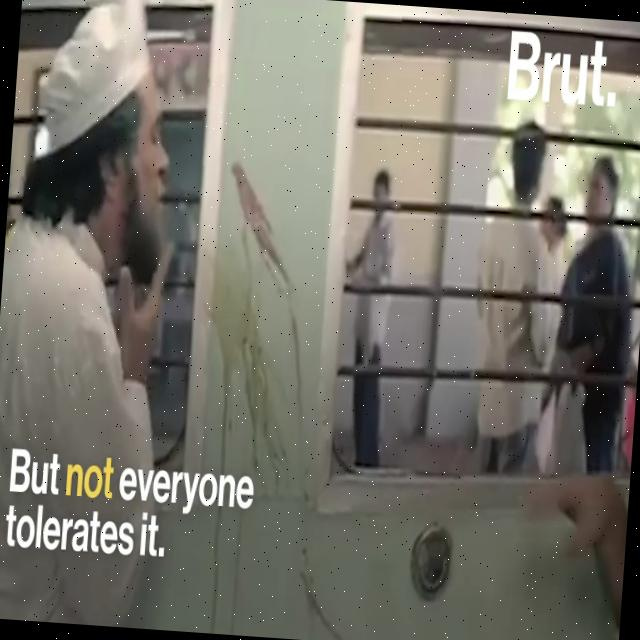spit: (30, 30, 293, 372)
